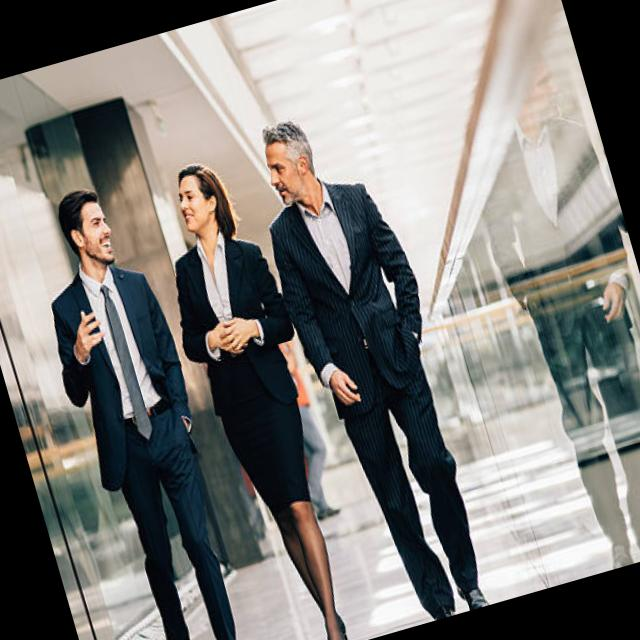Person: (235, 94, 508, 636), (135, 149, 381, 640), (10, 173, 268, 640)
